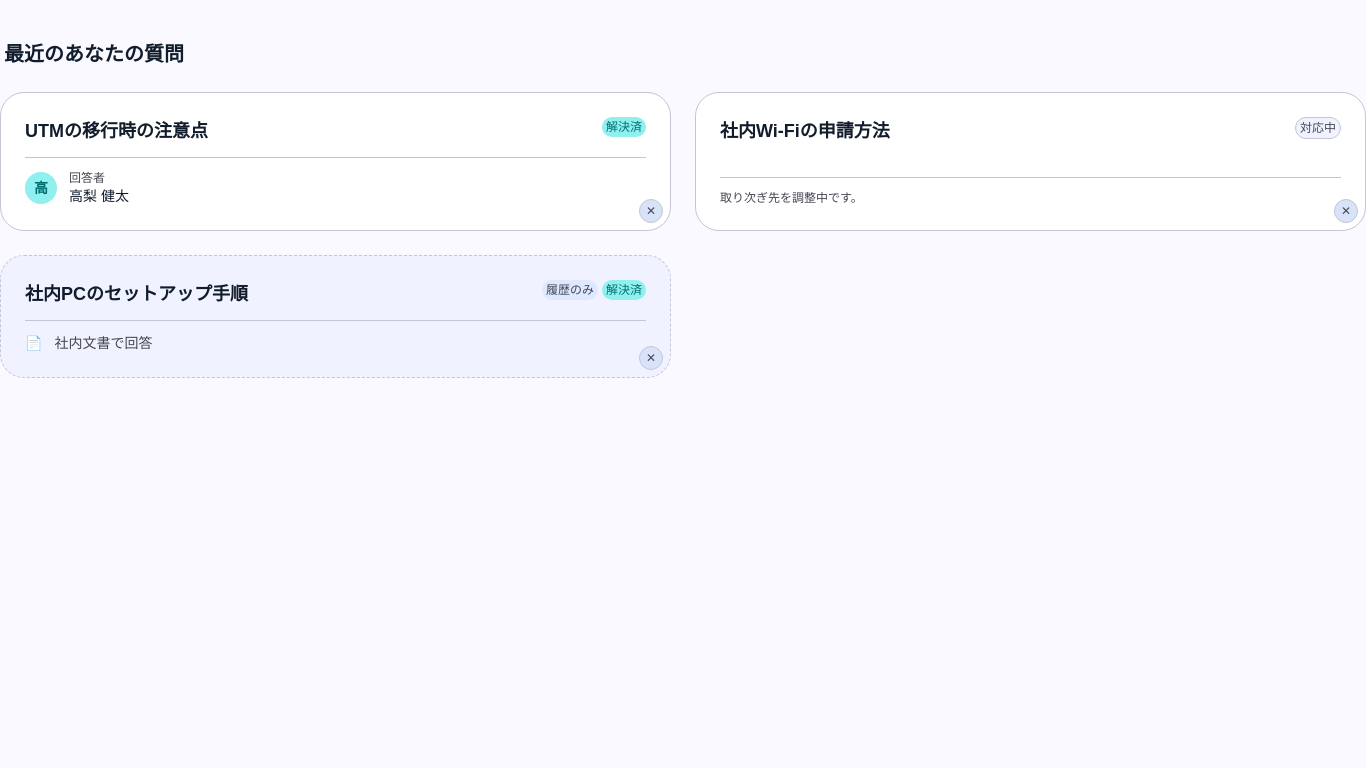
Scenario: RecentQuestions › cancels the delete on Escape
Expected: the heading "UTMの移行時の注意点" is shown, x1=25 y1=117 x2=208 y2=145
Click the button named "「UTMの移行時の注意点」を削除". click: (651, 211)
box: x1=639 y1=199 x2=663 y2=223
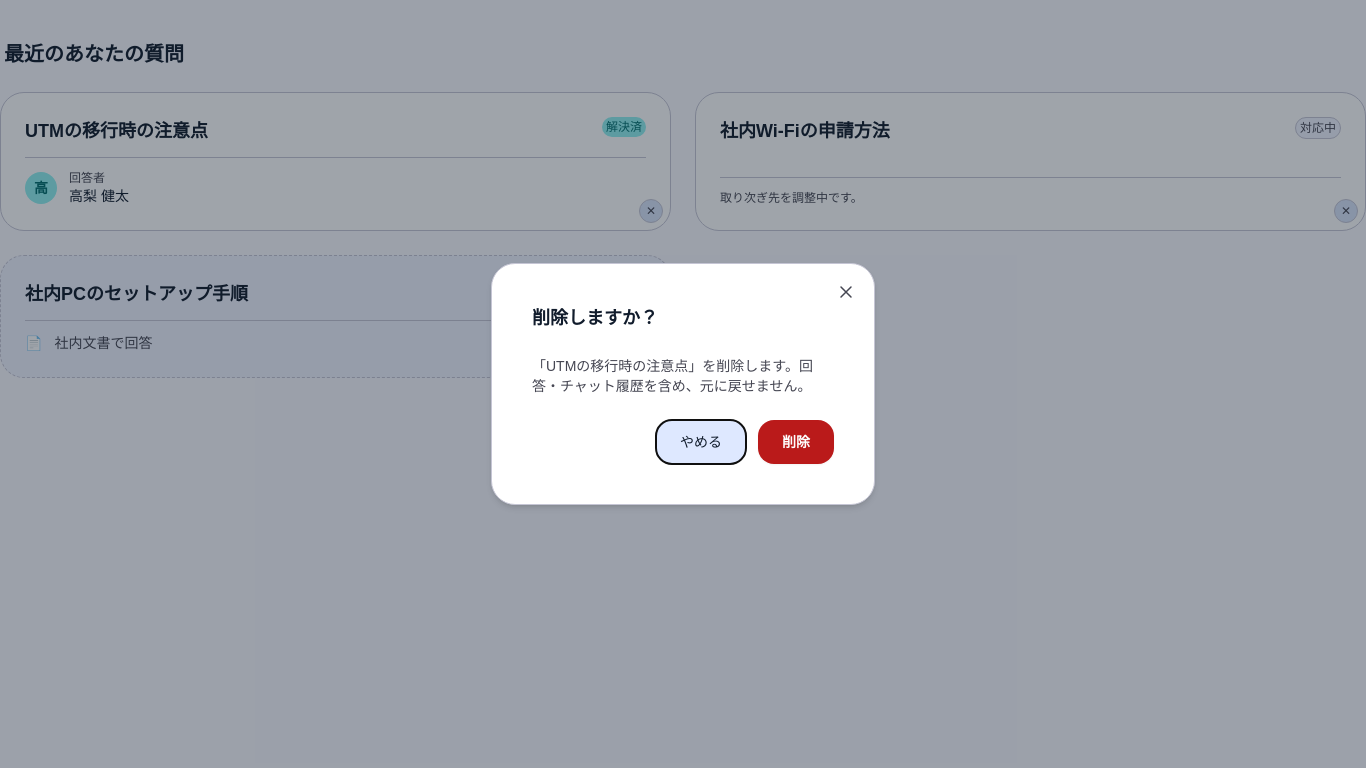
Result: the dialog is shown at x1=491 y1=263 x2=875 y2=505
Press Escape
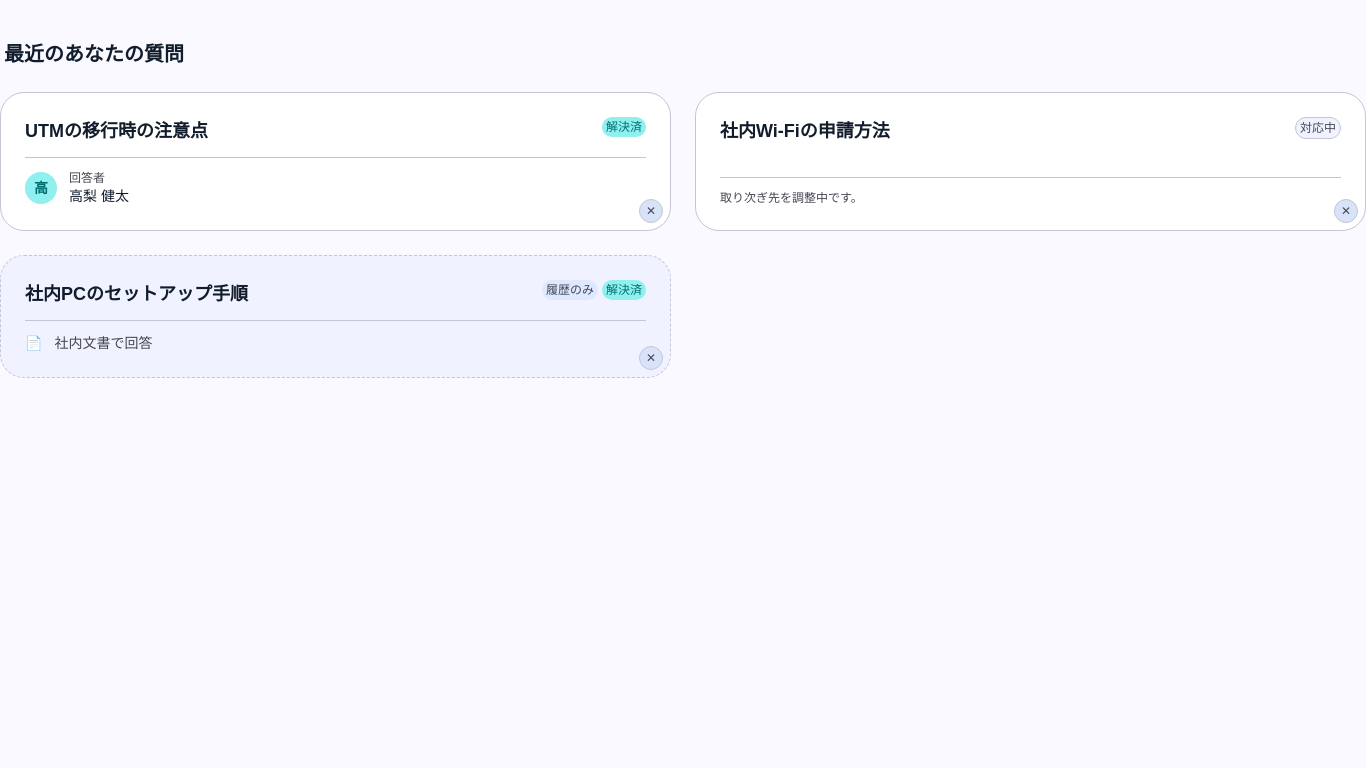
Result: the dialog is gone
